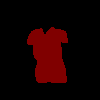polo: (27, 26, 68, 83)
